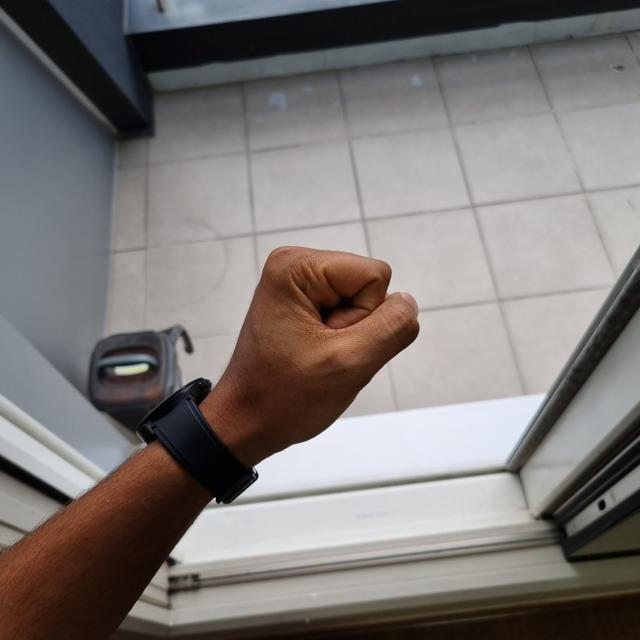Rock: (205, 244, 422, 460)
